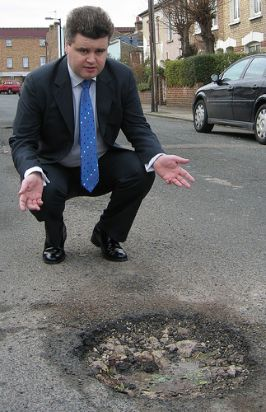pothole: (65, 306, 258, 403)
